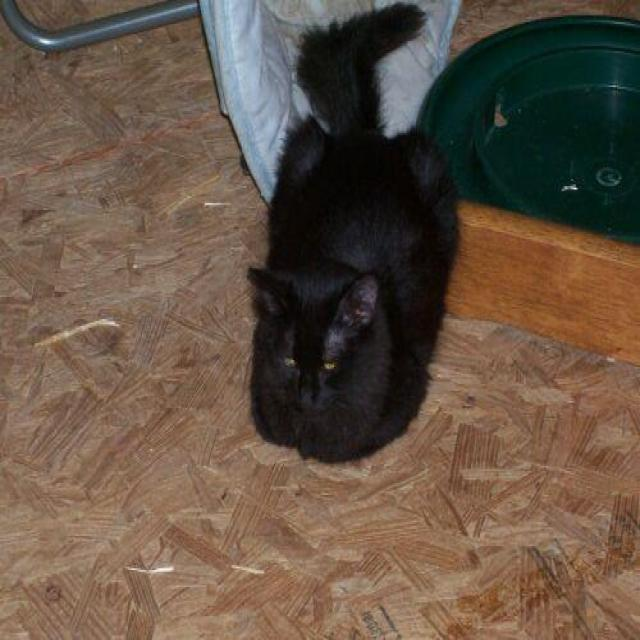Cats: (245, 0, 460, 464)
